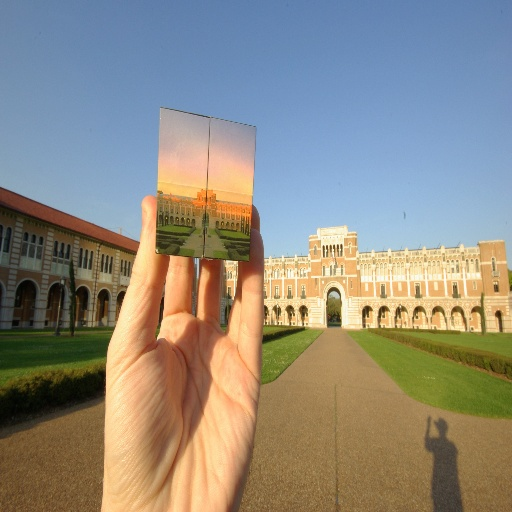hand: (83, 195, 270, 474)
